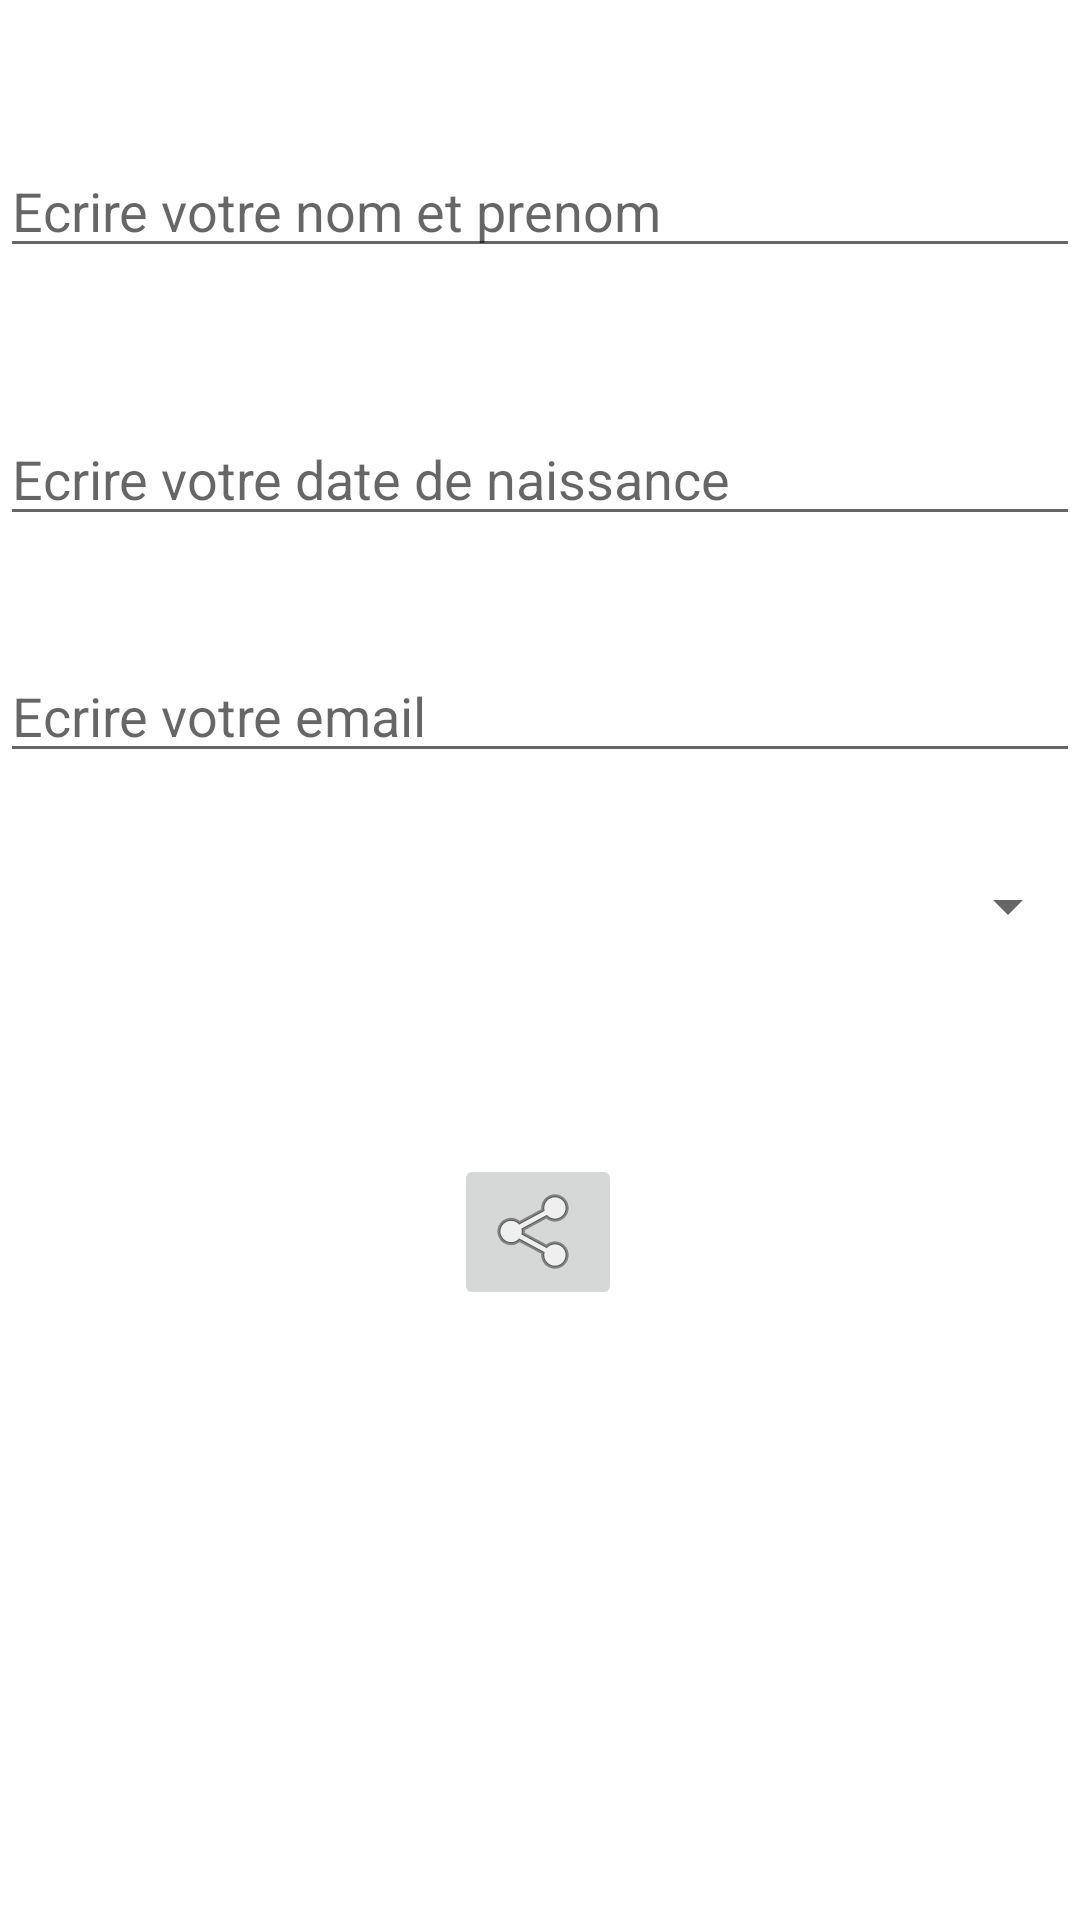

Named icons in this screenshot (1080×1920) and their centers, (x=x, y=y):
share: (x=538, y=1232)
